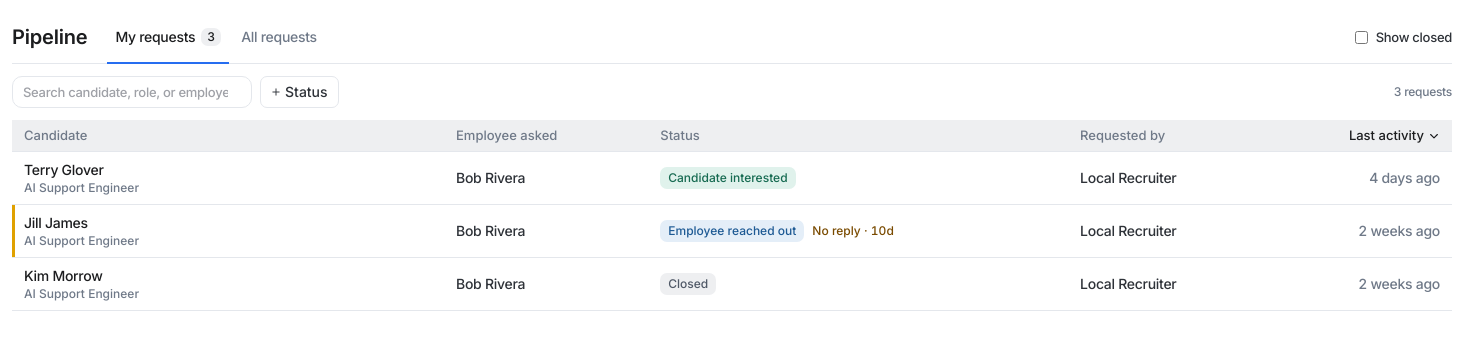
Scenario: PipelinePage › sorts by a column header, flips on the second click, and reads sort from the URL
This screenshot has width=1464, height=354.
Check: the table is shown, box [12,120,1452,311]
Check: the number of icons with test id "sort-chevron" is 1, box [1428,130,1440,142]
Click the button "Candidate" at [56, 136], box [24,120,87,151]
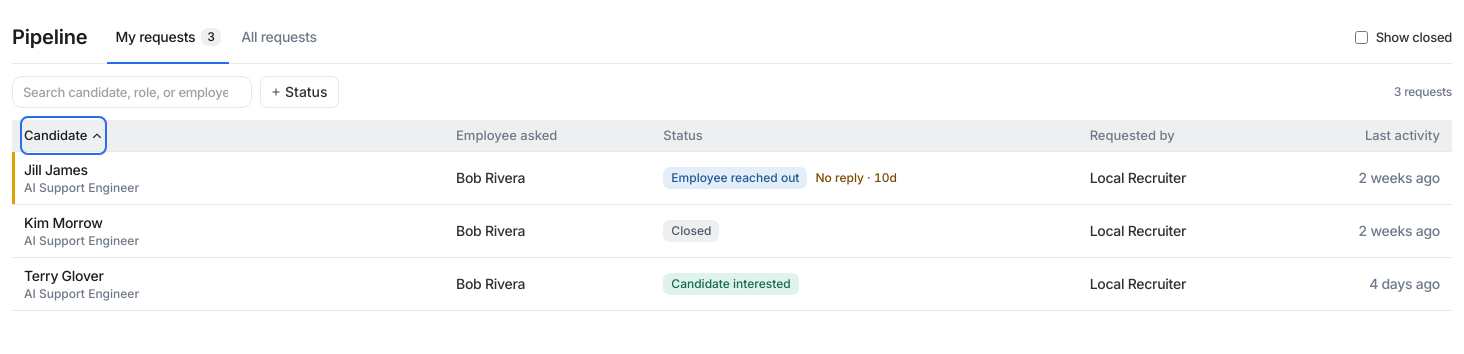
Check: the column heading "Candidate" has attribute aria-sort="ascending", box [12,120,444,152]
Check: the column heading "Last activity" does not have attribute aria-sort, box [1277,120,1452,152]
Click the button "Candidate" at [64, 136], box [24,120,103,151]
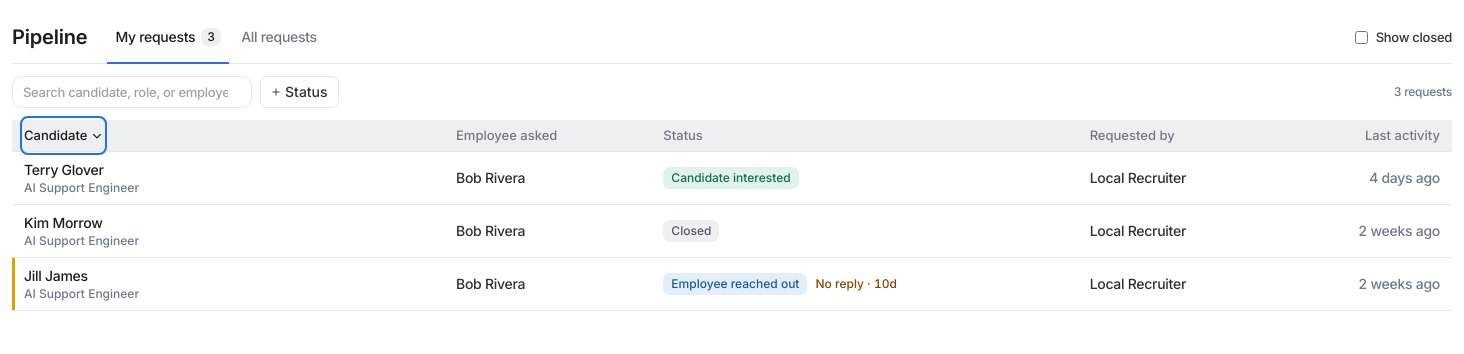
Check: the column heading "Candidate" has attribute aria-sort="descending", box [12,120,444,152]
# Clearing filters keeps the chosen sort.
Click the button with aria-label "Add status filter" at [299, 92], box [260,76,339,108]
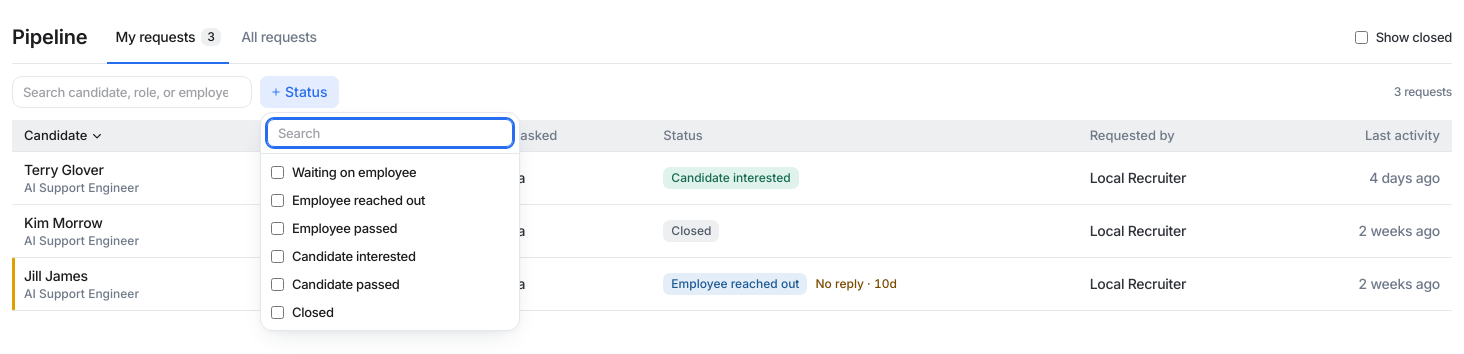
Click the checkbox labelled "Closed" at [278, 312], box [271,306,284,318]
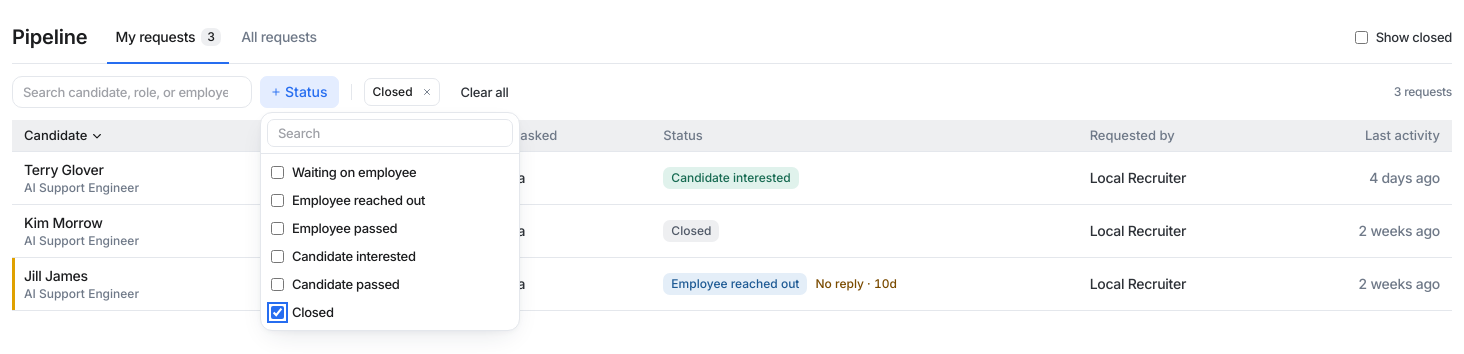
Check: the button named "Remove Closed" is shown, box [415,79,439,105]
Click the button "Clear all" at [485, 92], box [448,76,522,108]
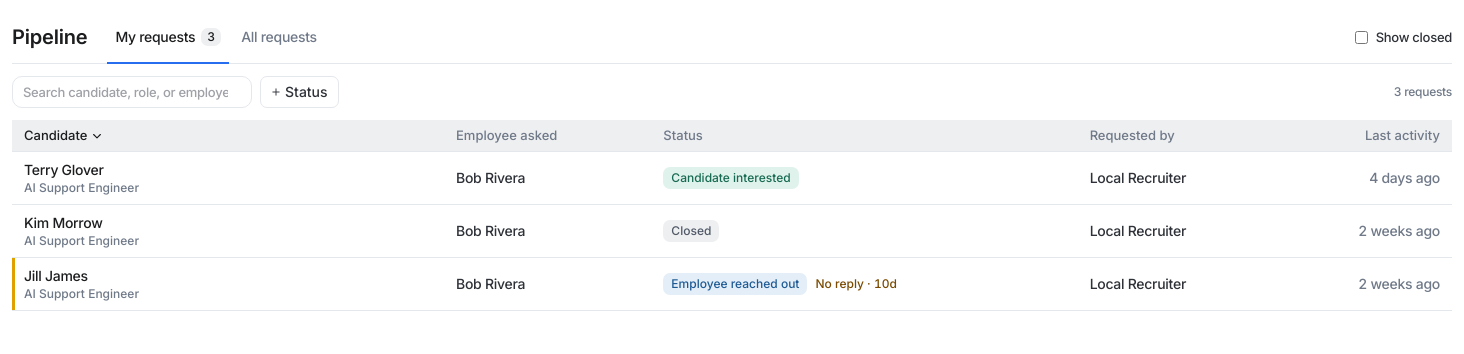
Check: the button "Remove Closed" is gone
